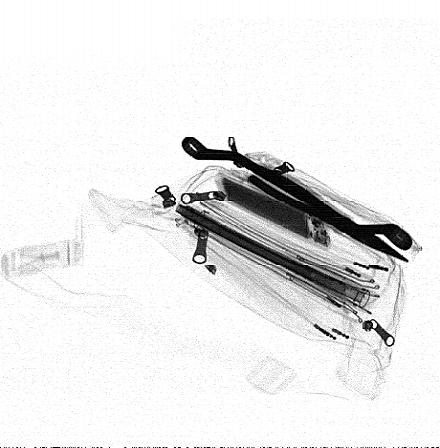Pliers: (246, 165, 410, 263)
Powerbank: (214, 174, 333, 251)
Wrench: (183, 136, 413, 252)
